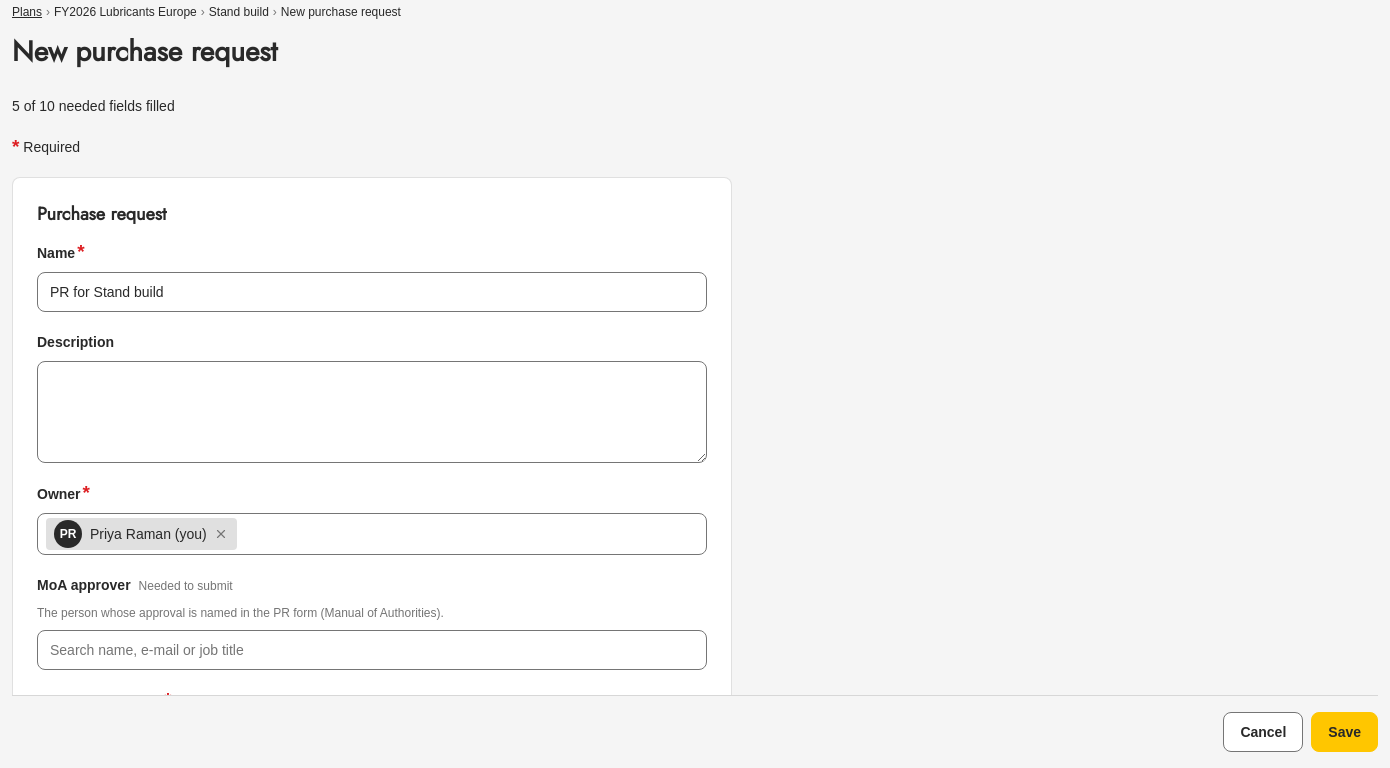
Test: 032 FR-003/FR-053/FR-054: new purchase request › lists the missing fields at once before asking the API
Clear the field labelled "Name" at (372, 292), box top-left (37, 272), bottom-right (707, 312)
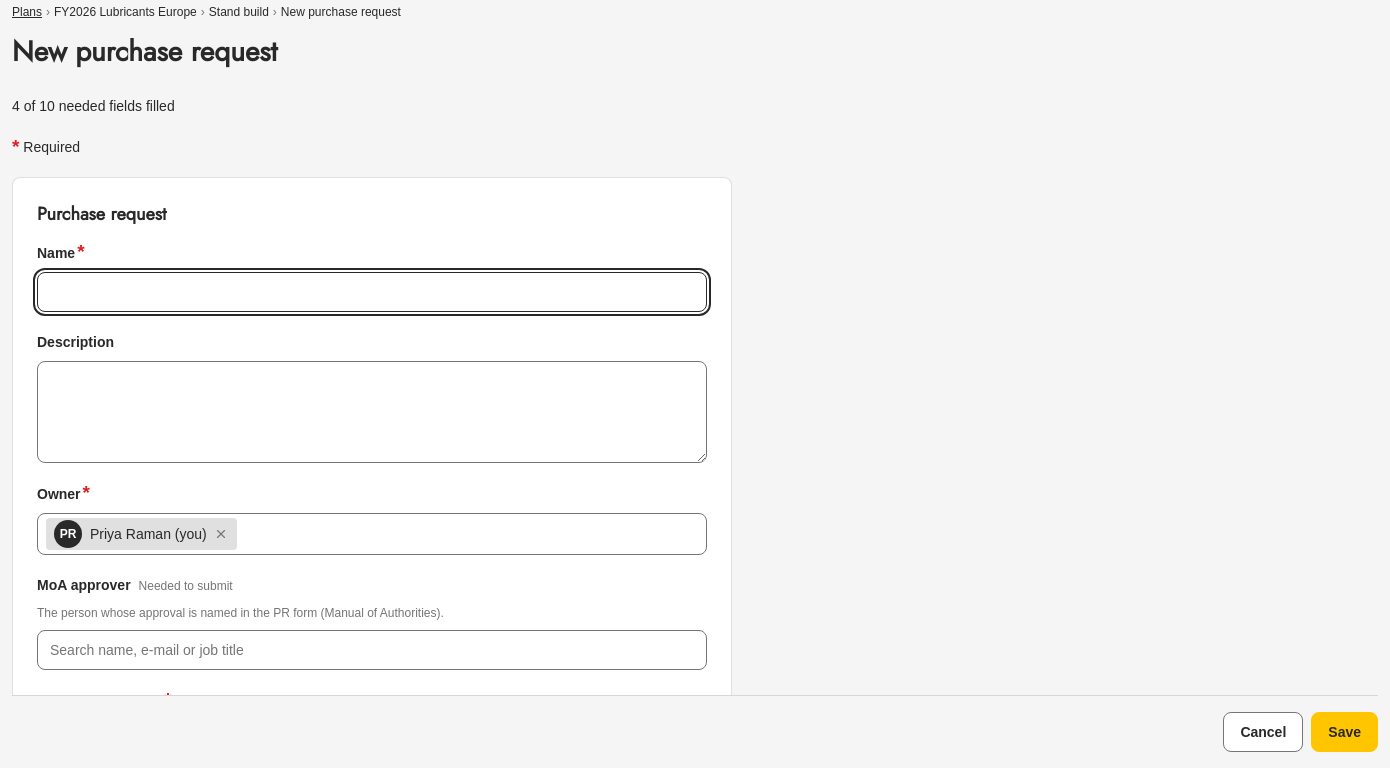
Click the button "Save".
click(1345, 732)  # box top-left (1311, 712), bottom-right (1378, 752)
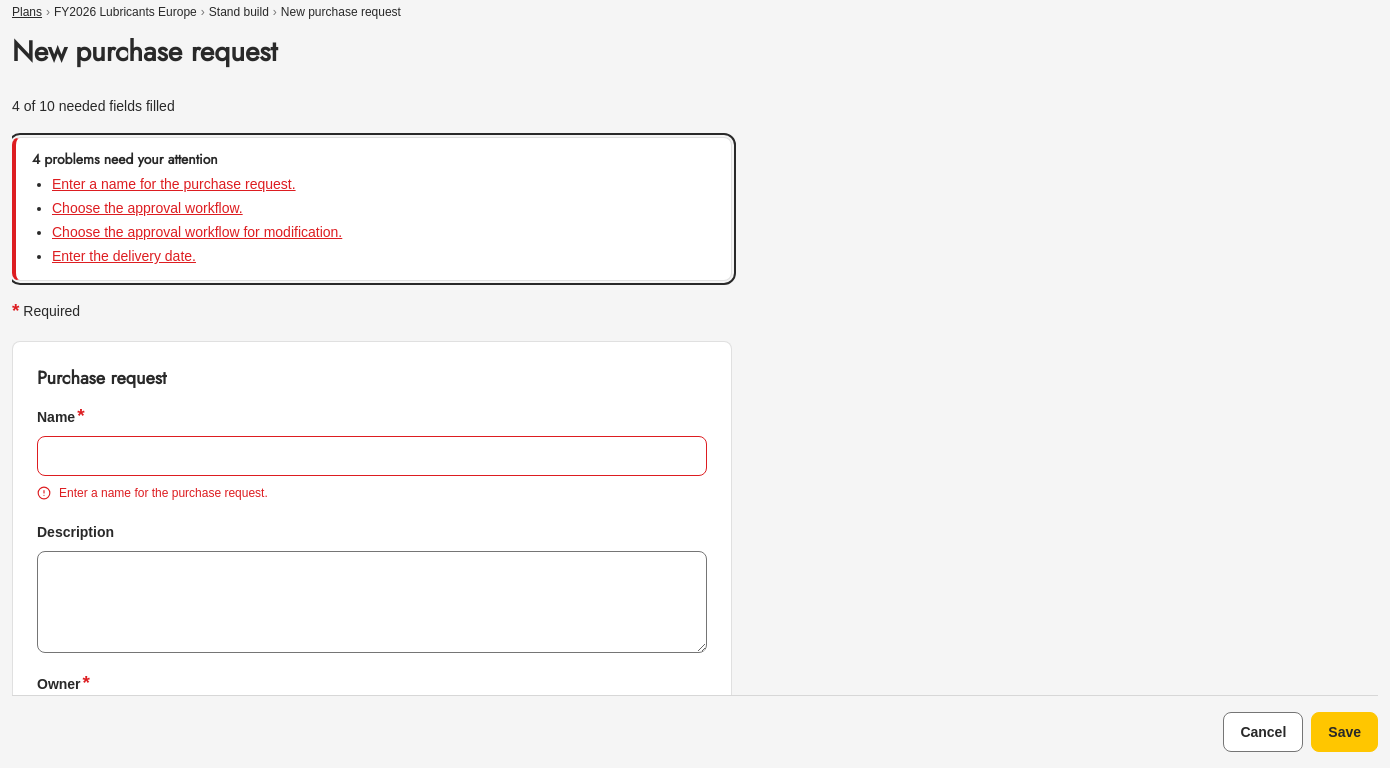
Result: the message shows "4 problems need your attention" at top-left (32, 149), bottom-right (218, 169)
Result: the message shows "Enter a name for the purchase request." at top-left (52, 172), bottom-right (296, 196)
Result: the message shows "Choose the approval workflow." at top-left (52, 196), bottom-right (243, 220)
